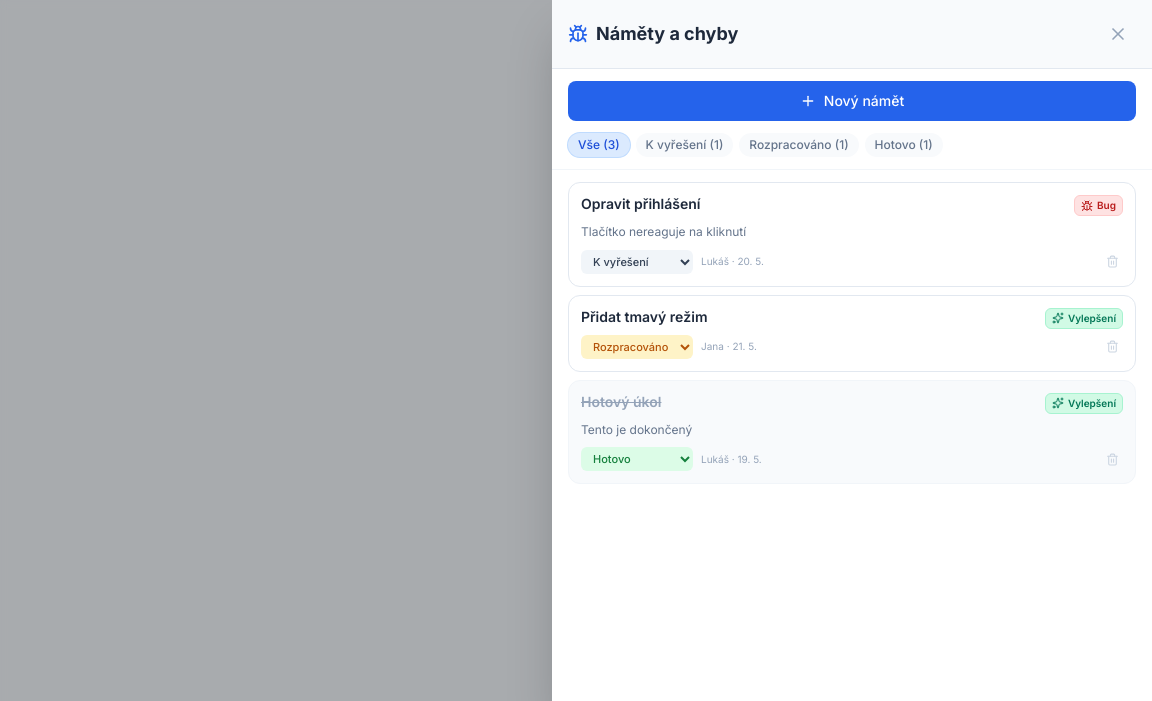
IssueDrawer › toggles the new issue form when button is clicked
The width and height of the screenshot is (1152, 701).
Click the button "Nový námět": {"x": 852, "y": 101} [568,81,1136,121]
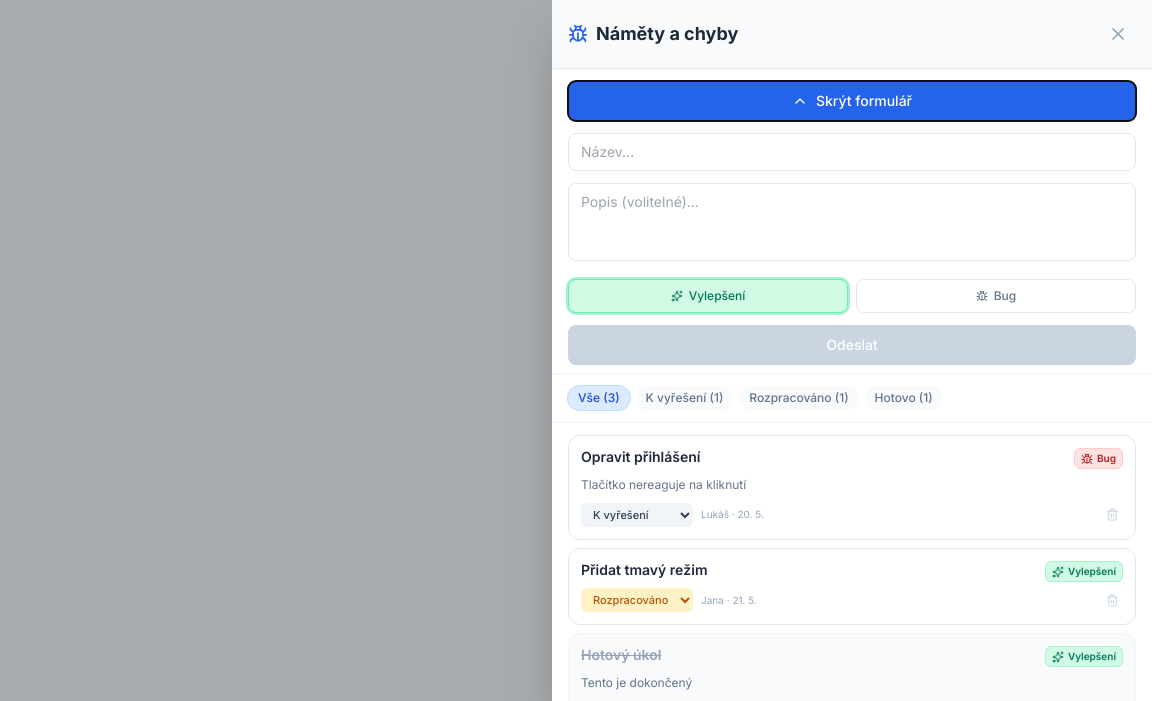
Check: the field with placeholder "Název..." is shown, box [568,133,1136,171]
Check: the text box with placeholder "Popis (volitelné)..." is shown, box [568,183,1136,261]
Check: the button "Skrýt formulář" is shown, box [568,81,1136,121]
